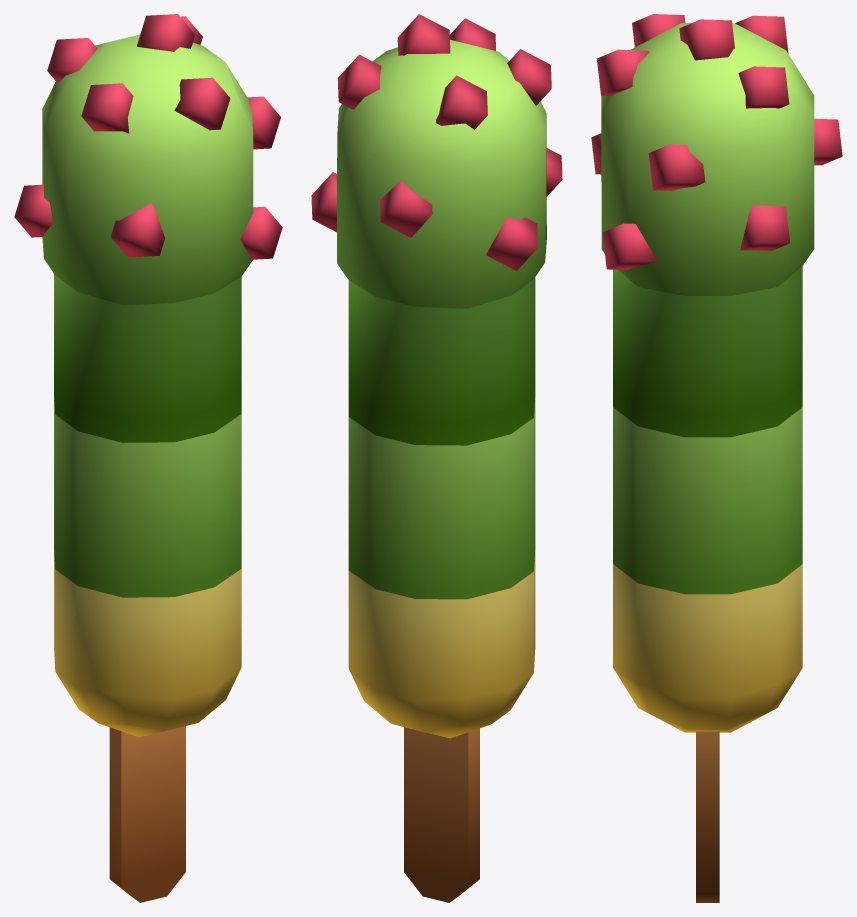
Rendered from m_CactusPopsicle03.fbx.
3 views of the same model, side by side, from view 1: azimuth 30°, elevation 25°; view 2: azimuth 150°, elevation 25°; view 3: azimuth 270°, elevation 25° (orthographic). The views are drawn at different scales.
Parts seen in each view (by area): view 1: m_CactusPopsicle03; view 2: m_CactusPopsicle03; view 3: m_CactusPopsicle03.
Boxes of the visible parts, x1,y1,x2,y2 form: m_CactusPopsicle03: (14, 14, 282, 902); m_CactusPopsicle03: (311, 14, 562, 902); m_CactusPopsicle03: (591, 14, 842, 902).
Size of the model in its own units: 6.64 by 24.02 by 6.15.
